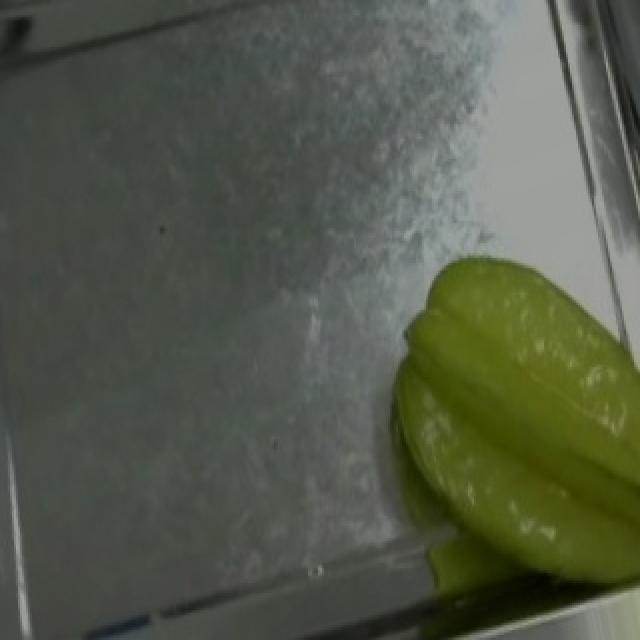fruit: (360, 214, 640, 610)
